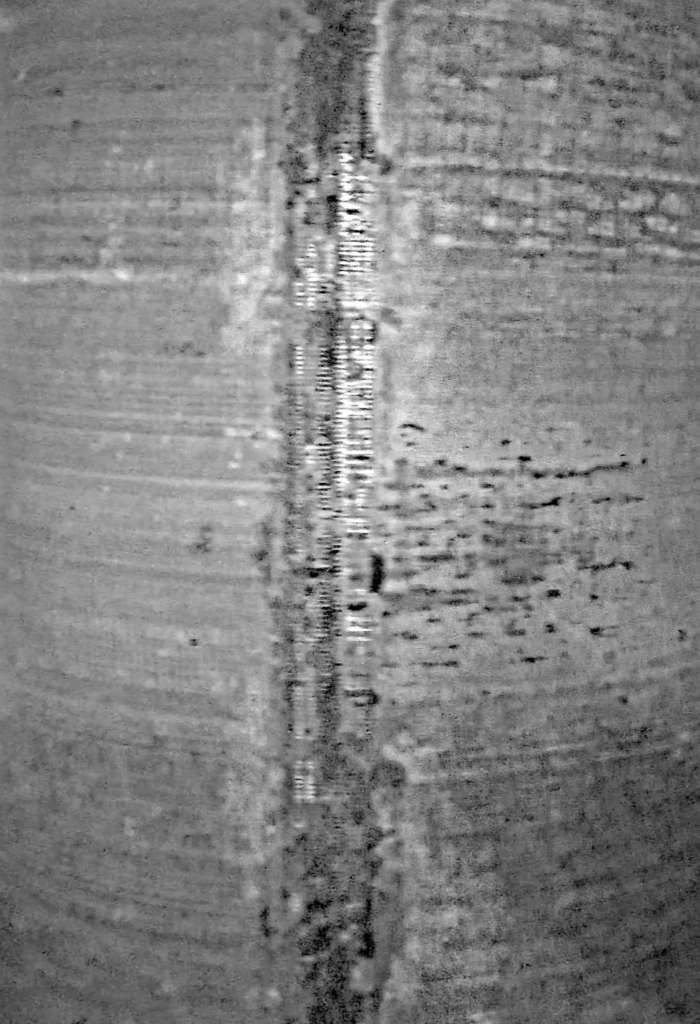splice: (258, 1, 402, 1024)
